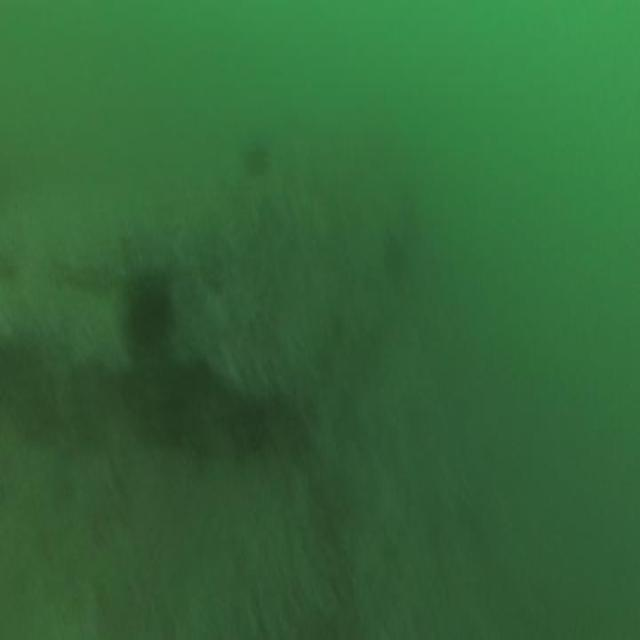echinus: (119, 258, 181, 356)
